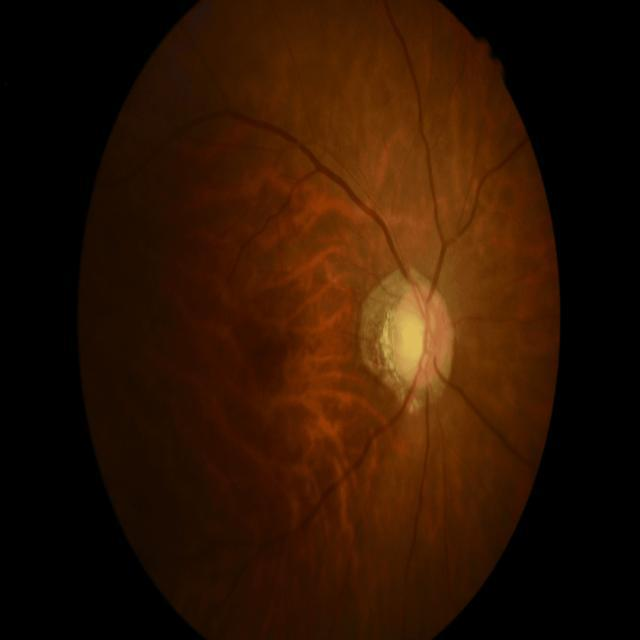cup: (391, 299, 434, 379)
disk: (382, 284, 456, 394)
